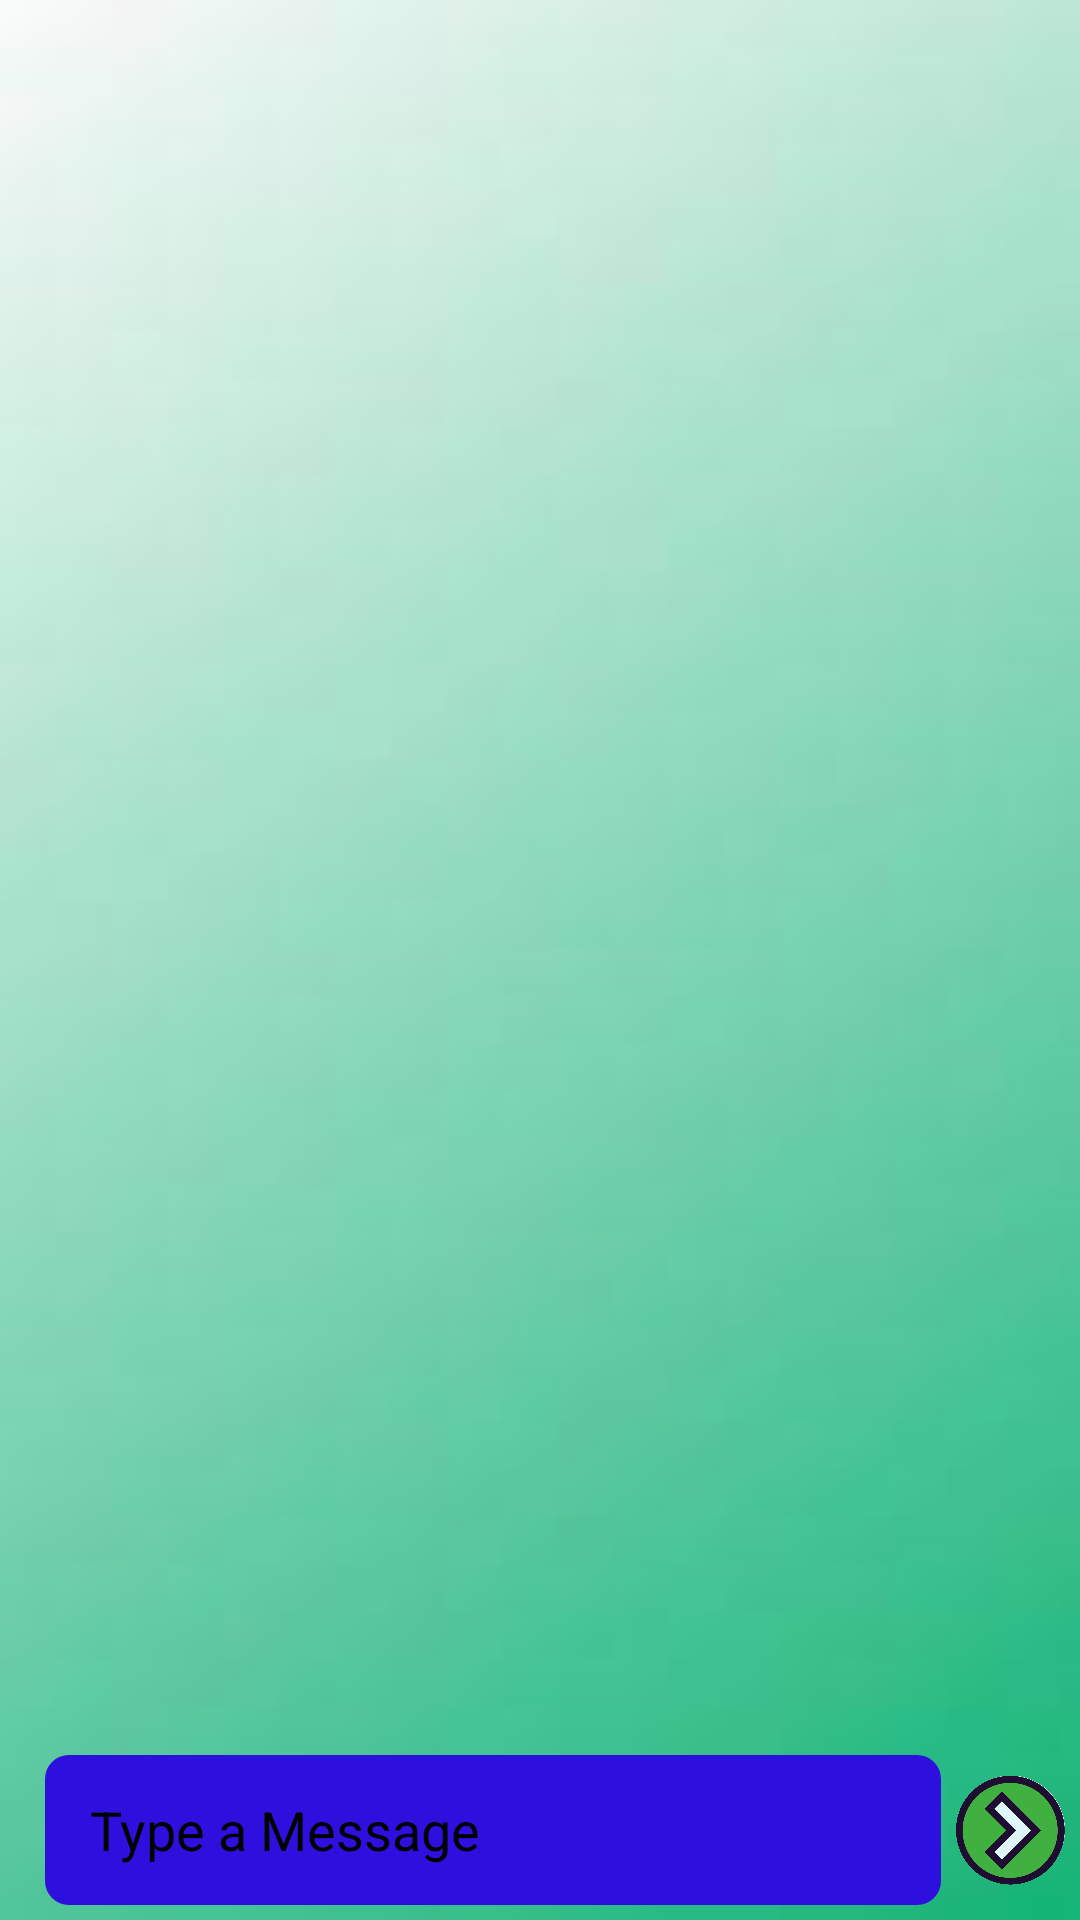

Named icons in this screenshot (1080px×1920px) and their centers, (x=x, y=y):
send: (x=1010, y=1830)
